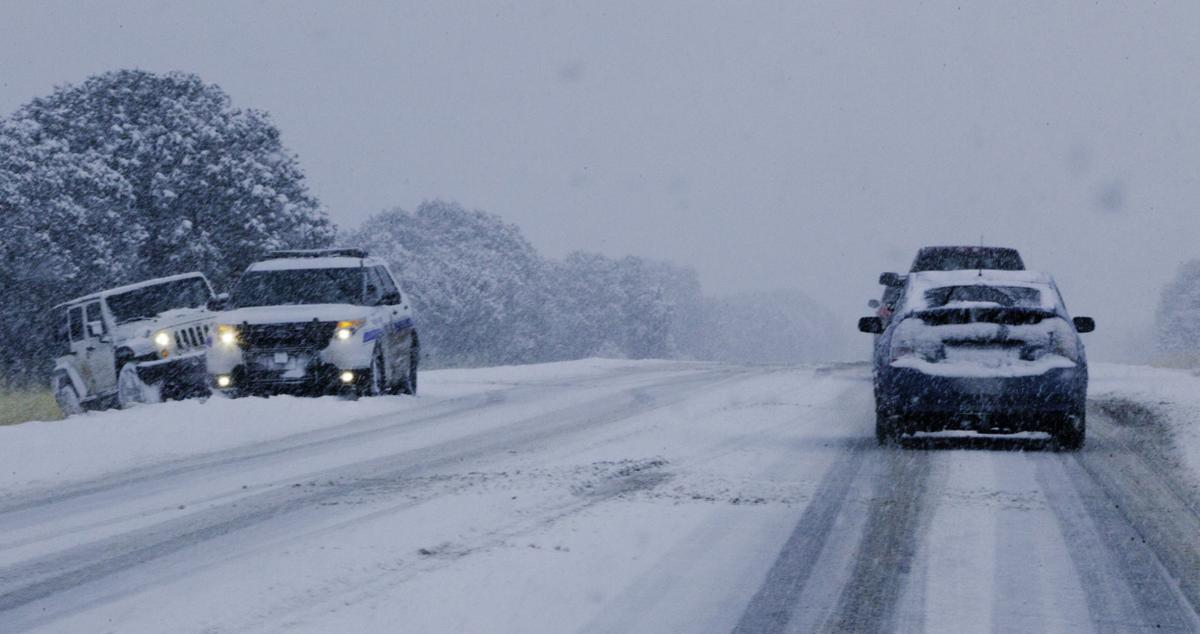car: (858, 269, 1099, 448), (209, 247, 424, 406)
